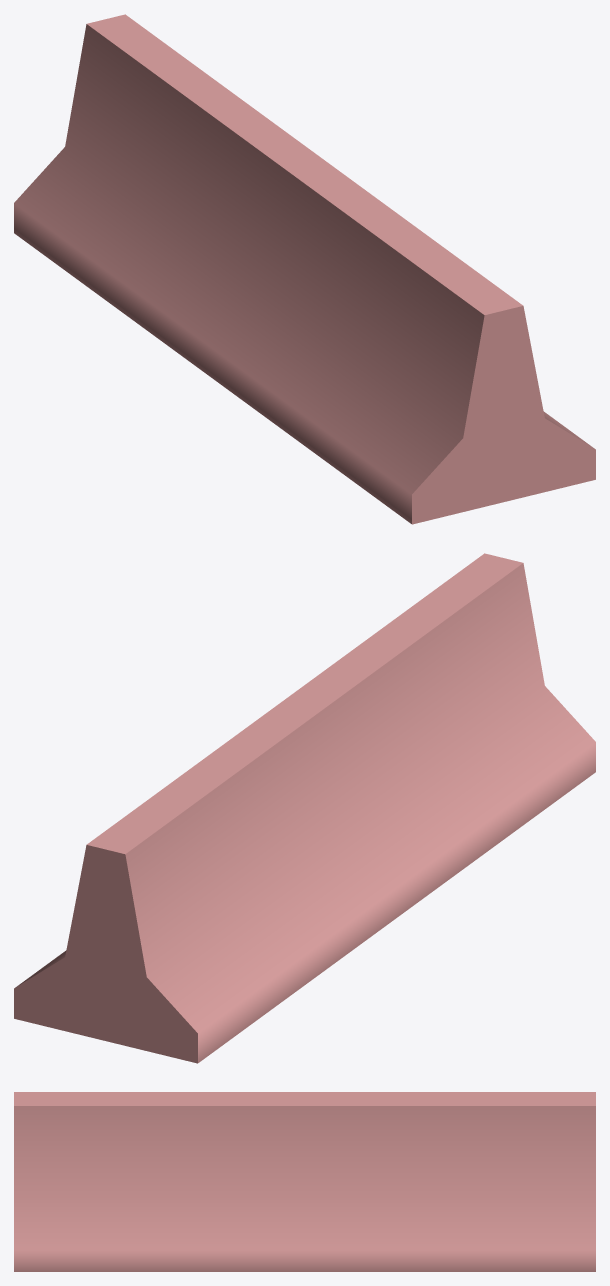
File: Fence_A_A_COL.fbx
3 renders of one model, top to bottom at view 1: azimuth 30°, elevation 25°; view 2: azimuth 150°, elevation 25°; view 3: azimuth 270°, elevation 25°, orthographic. The views are drawn at different scales.
Parts seen in each view (by area): view 1: Fence_A_A_COL; view 2: Fence_A_A_COL; view 3: Fence_A_A_COL.
Part boxes in pixels (x1,y1,x2,y2): Fence_A_A_COL: (14, 14, 595, 524); Fence_A_A_COL: (14, 553, 595, 1063); Fence_A_A_COL: (14, 1092, 595, 1271).
Size of the model in its own units: 80 by 79.67 by 300.
